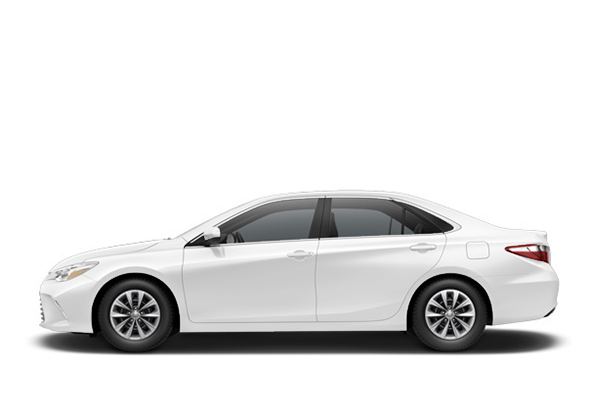car: (34, 182, 571, 364)
